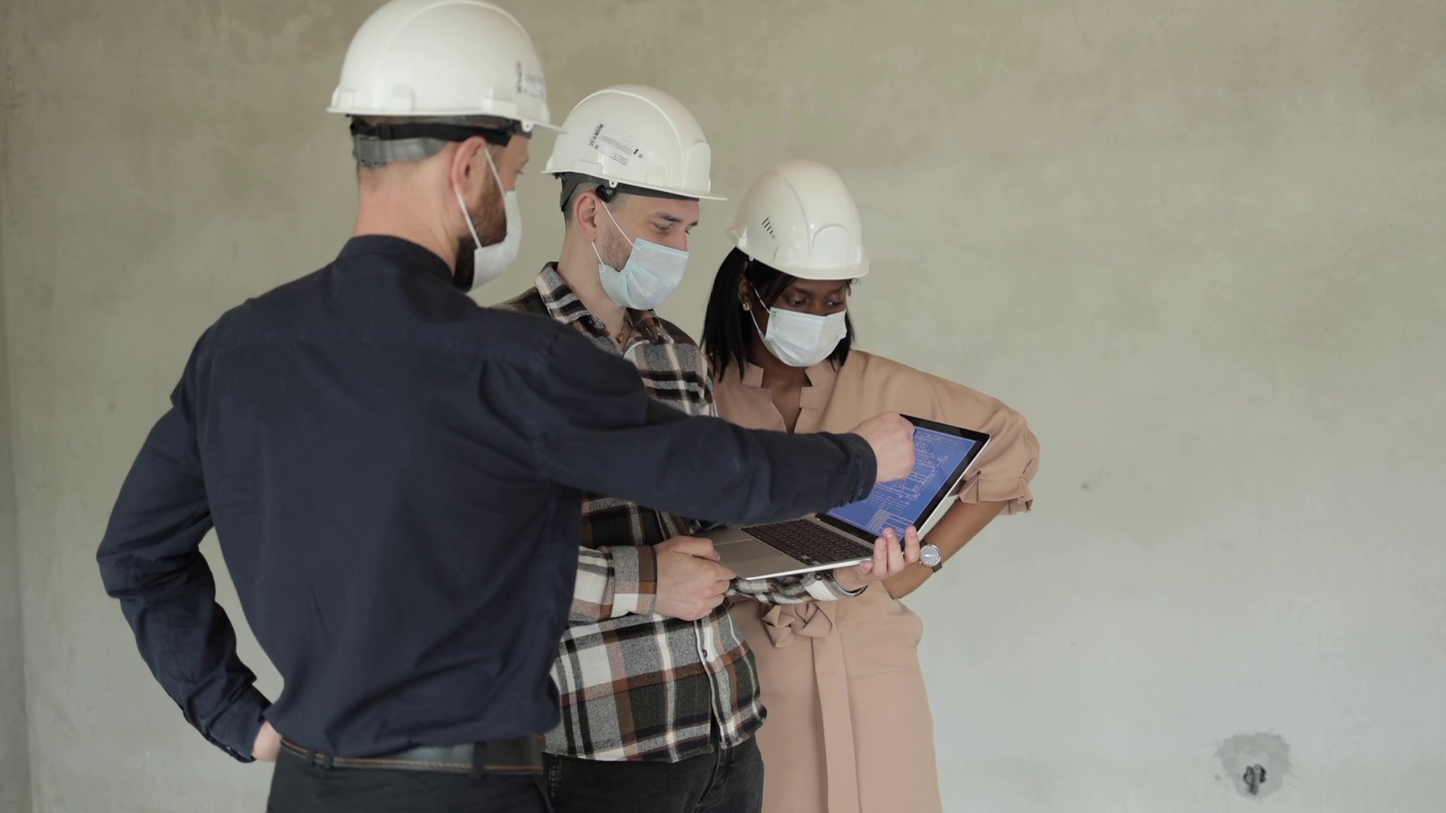helmet: (325, 0, 569, 136), (541, 83, 729, 203), (728, 159, 871, 282)
mask: (597, 236, 691, 312), (466, 189, 524, 293), (761, 305, 847, 369)
person: (95, 0, 919, 813), (490, 84, 923, 813), (700, 157, 1042, 813)
